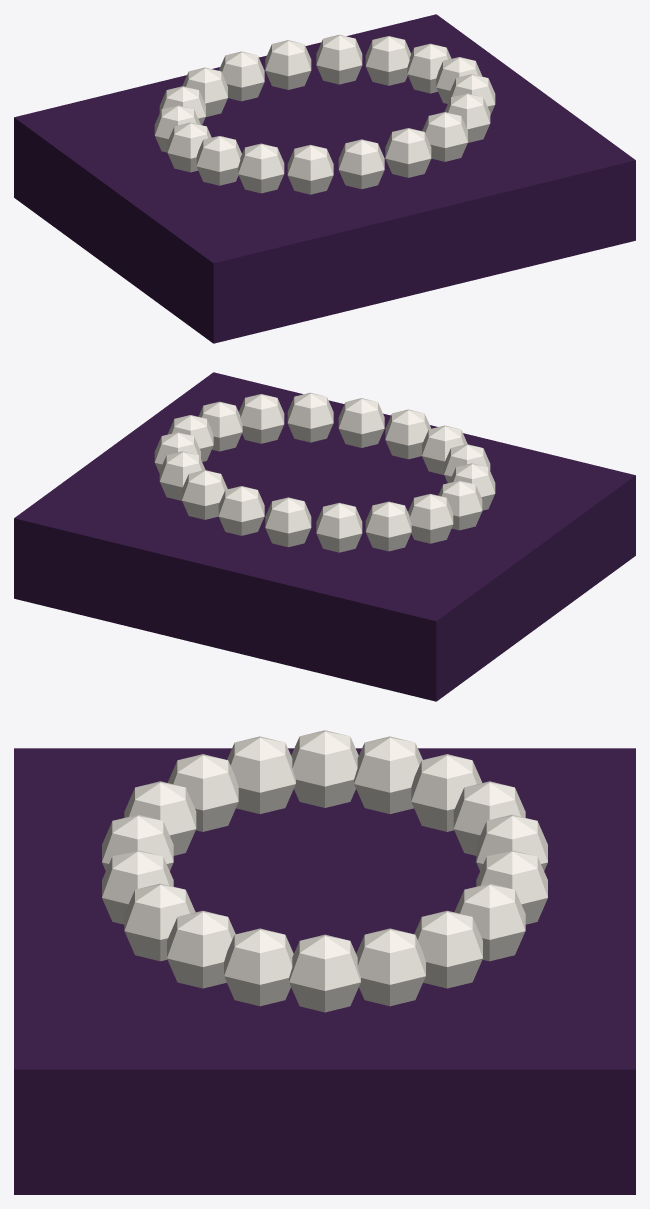
The model's file is pearl_necklace.glb.
The picture shows the model from 3 angles, top to bottom: view 1: azimuth 30°, elevation 25°; view 2: azimuth 150°, elevation 25°; view 3: azimuth 270°, elevation 25°; orthographic projection. The views are drawn at different scales.
Visible parts, largest first — view 1: box_velvet, pearls_pearl (×18); view 2: box_velvet, pearls_pearl (×18); view 3: box_velvet, pearls_pearl (×18).
Part boxes in pixels (x1=…): box_velvet: x1=14, y1=14, x2=635, y2=343; pearls_pearl (×18): x1=154, y1=34, x2=495, y2=194; box_velvet: x1=14, y1=372, x2=635, y2=701; pearls_pearl (×18): x1=154, y1=392, x2=495, y2=552; box_velvet: x1=14, y1=748, x2=635, y2=1194; pearls_pearl (×18): x1=102, y1=730, x2=547, y2=1012.
Bounding box in the file's own units: 0.22 × 0.064 × 0.18.
